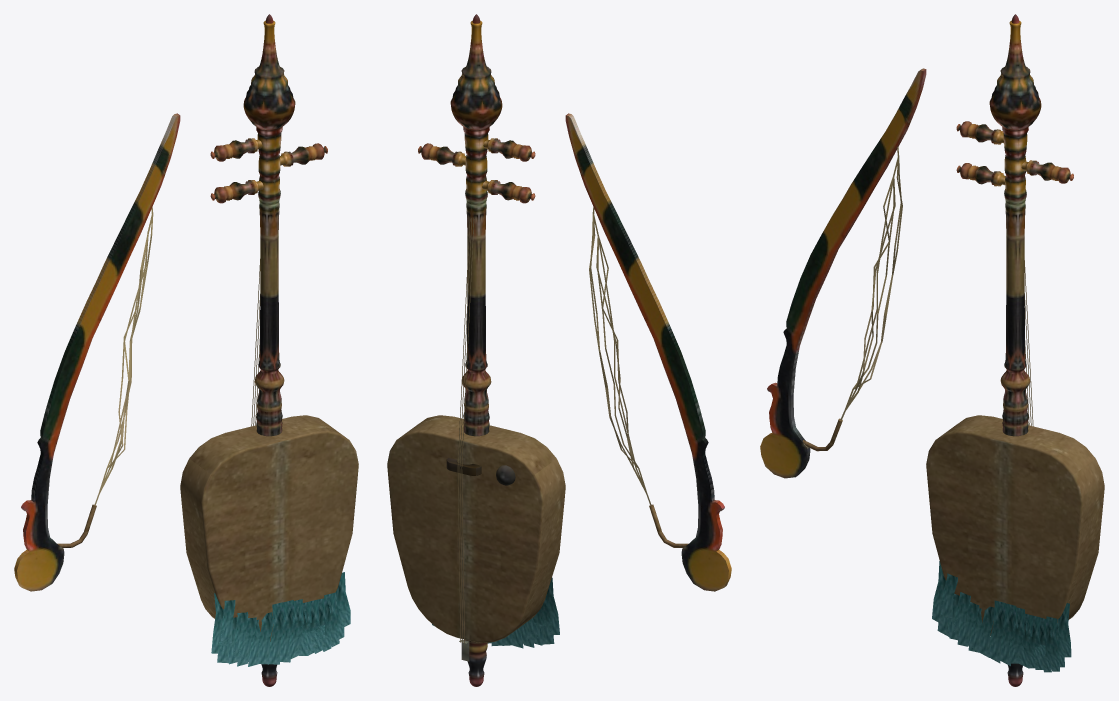
File: scene_rebab.gltf
3 renders of one model, left to right at view 1: azimuth 30°, elevation 25°; view 2: azimuth 150°, elevation 25°; view 3: azimuth 330°, elevation 25°, orthographic.
Visible parts, largest first — view 1: 1- Rebab (ADR (KLTN) CHEISA 25), 2- Rebab (ADR (KLTN) CHEISA 25); view 2: 1- Rebab (ADR (KLTN) CHEISA 25), 2- Rebab (ADR (KLTN) CHEISA 25); view 3: 1- Rebab (ADR (KLTN) CHEISA 25), 2- Rebab (ADR (KLTN) CHEISA 25).
Part boxes in pixels (x1,y1,x2,y2): 1- Rebab (ADR (KLTN) CHEISA 25): (180,14,358,686); 2- Rebab (ADR (KLTN) CHEISA 25): (14,113,180,591); 1- Rebab (ADR (KLTN) CHEISA 25): (387,14,565,686); 2- Rebab (ADR (KLTN) CHEISA 25): (565,113,731,591); 1- Rebab (ADR (KLTN) CHEISA 25): (926,14,1104,686); 2- Rebab (ADR (KLTN) CHEISA 25): (760,68,926,478).
Bounding box in the file's own units: 41.42 × 80 × 6.45.
1 material, 1 textured.
